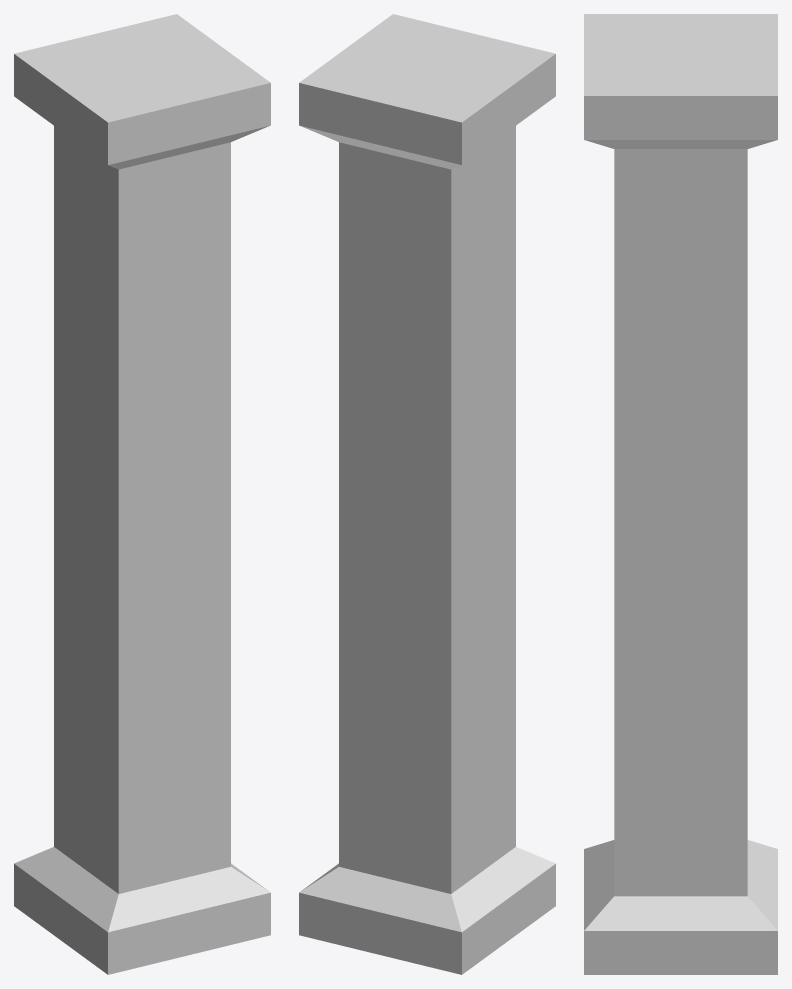
Rendered from square_pillar.glb.
The picture shows the model from 3 angles, left to right: view 1: azimuth 30°, elevation 25°; view 2: azimuth 150°, elevation 25°; view 3: azimuth 270°, elevation 25°; orthographic projection. The views are drawn at different scales.
Visible parts, largest first — view 1: SquarePillar; view 2: SquarePillar; view 3: SquarePillar.
Part boxes in pixels (x1,y1,x2,y2): SquarePillar: (14,14,270,974); SquarePillar: (299,14,555,974); SquarePillar: (584,14,777,974).
Bounding box in the file's own units: 2 × 10 × 2.
Materials: 1 (1 with a texture image).
